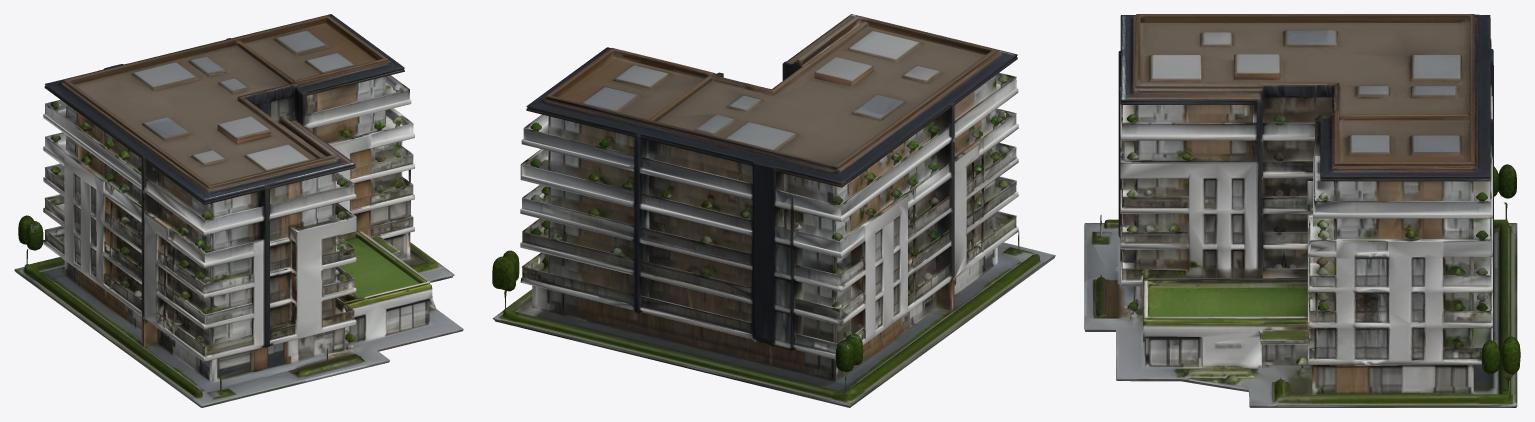
File: housing.glb
3 views of the same model, side by side, from view 1: azimuth 30°, elevation 25°; view 2: azimuth 150°, elevation 25°; view 3: azimuth 270°, elevation 25° (orthographic). The views are drawn at different scales.
Parts seen in each view (by area): view 1: node_0; view 2: node_0; view 3: node_0.
Boxes of the visible parts, <box> form: node_0: <box>14,14,463,407</box>; node_0: <box>492,14,1055,407</box>; node_0: <box>1084,14,1520,407</box>.
Size of the model in its own units: 0.7888 by 0.456 by 0.7865.
Materials: 1 (1 with a texture image).
